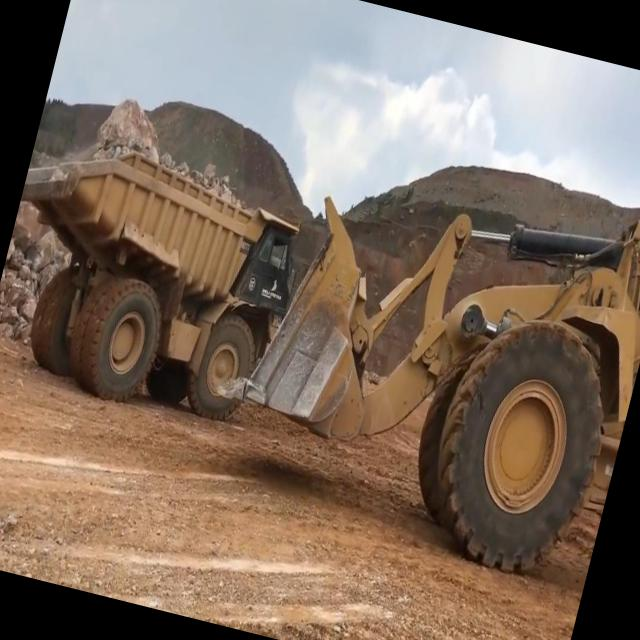Camion volquete: (0, 115, 320, 436)
pala cargadora: (190, 37, 640, 591)
